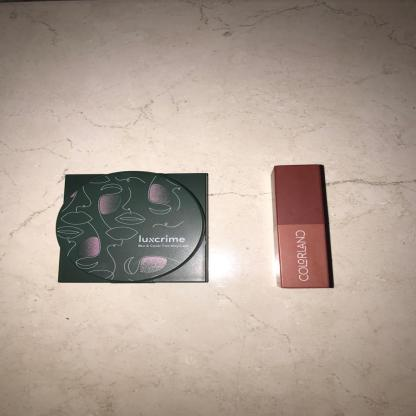lipstick: (244, 147, 364, 313)
